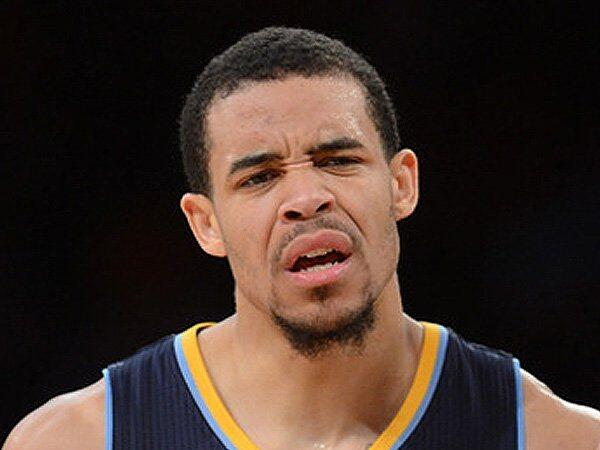confused: (195, 98, 408, 342)
